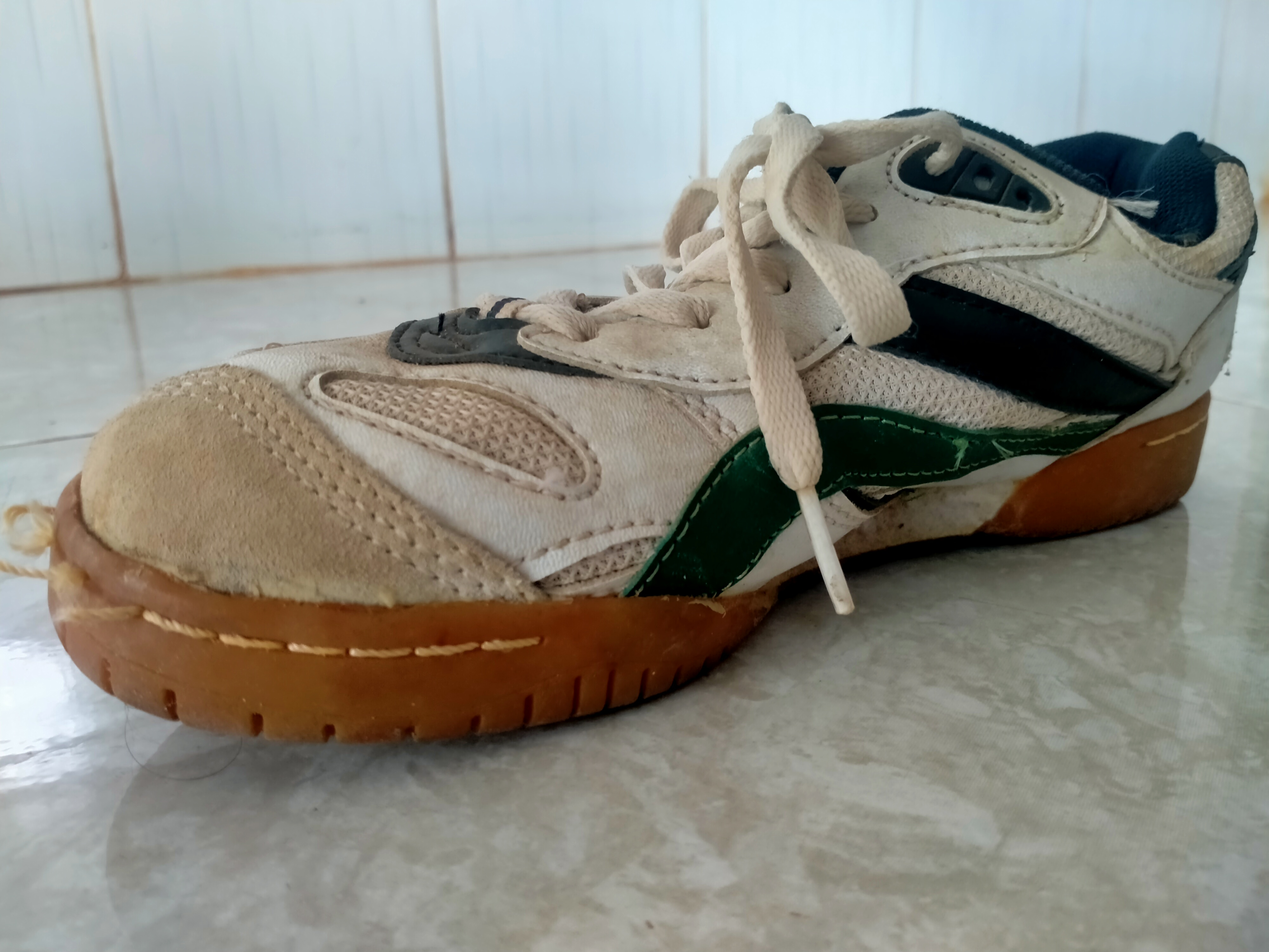broken: (36, 505, 158, 642), (929, 418, 1014, 449)
